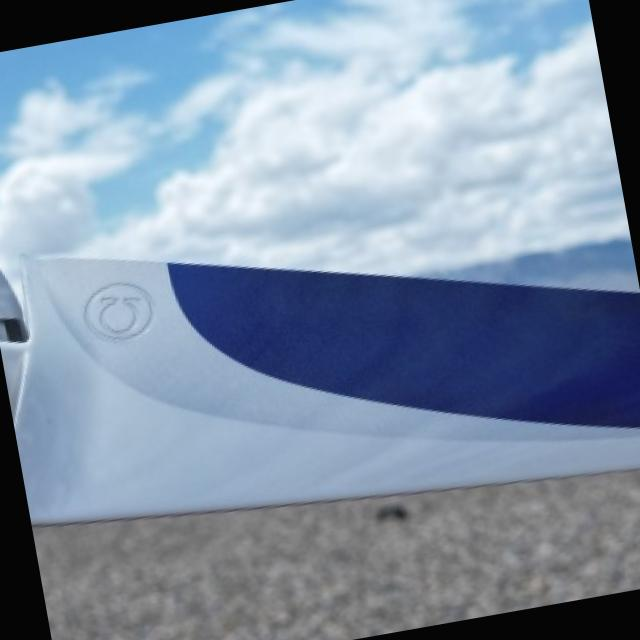healthy: (12, 255, 640, 521)
